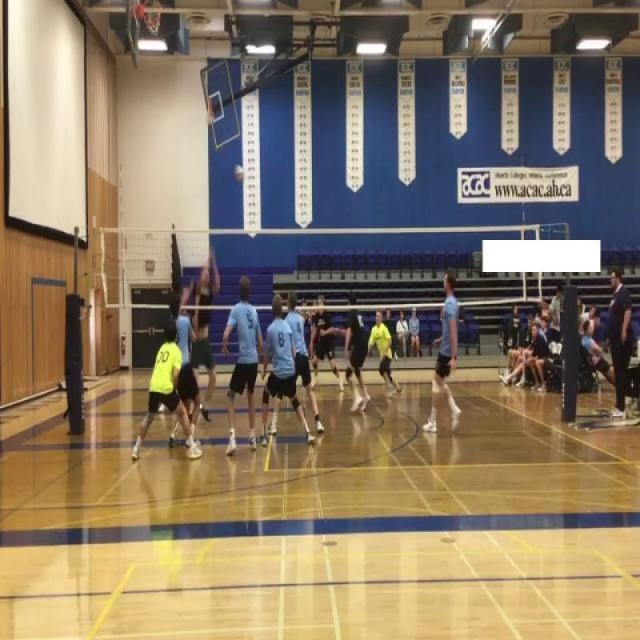volleyball: (234, 164, 246, 184)
